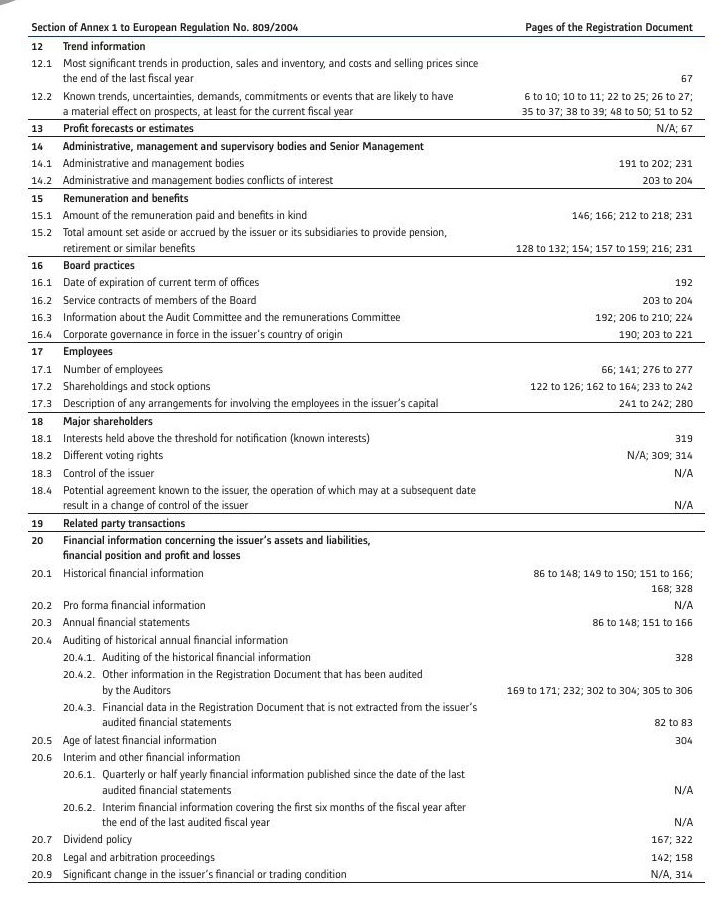table: (0, 0, 724, 913)
